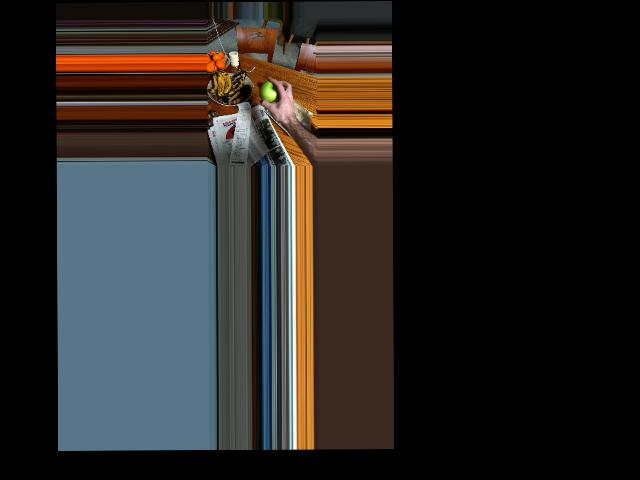apple: (258, 78, 280, 103)
